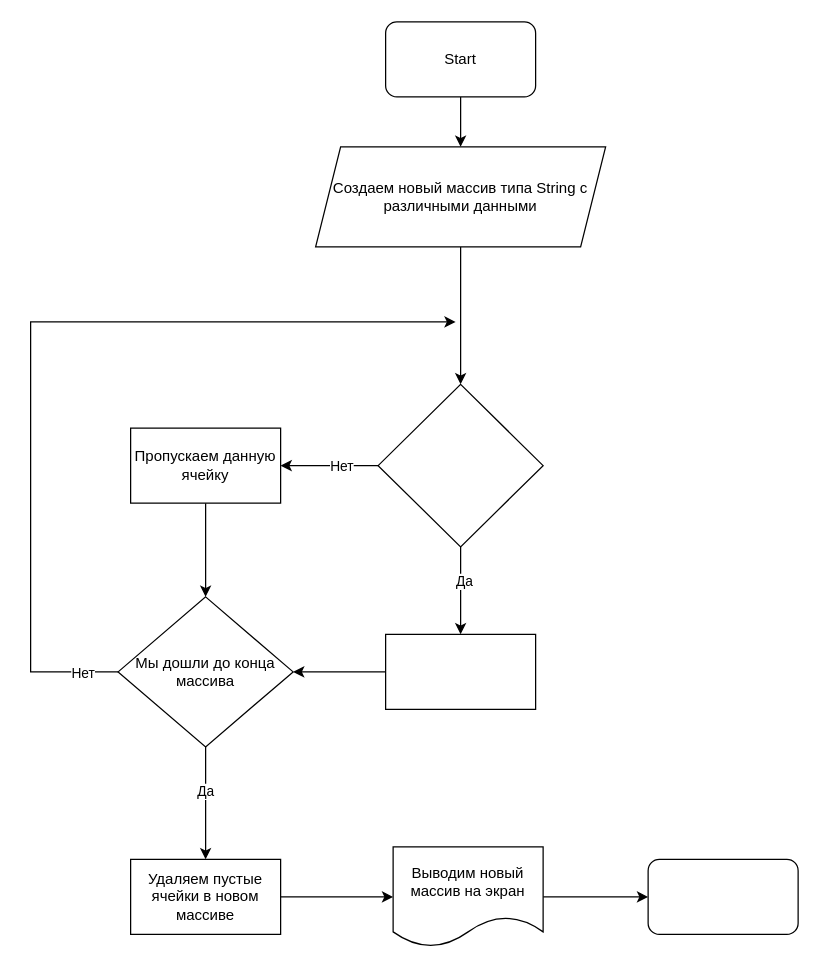
This 820x969 diagram has some shape labels left out. Each missing label, with the centre of its shape:
Finish: the point at 722,896
Копируем данную ячейку в новый массив: the point at 460,671
Ячейка массива содержит менее 3-х символов: the point at 460,465
